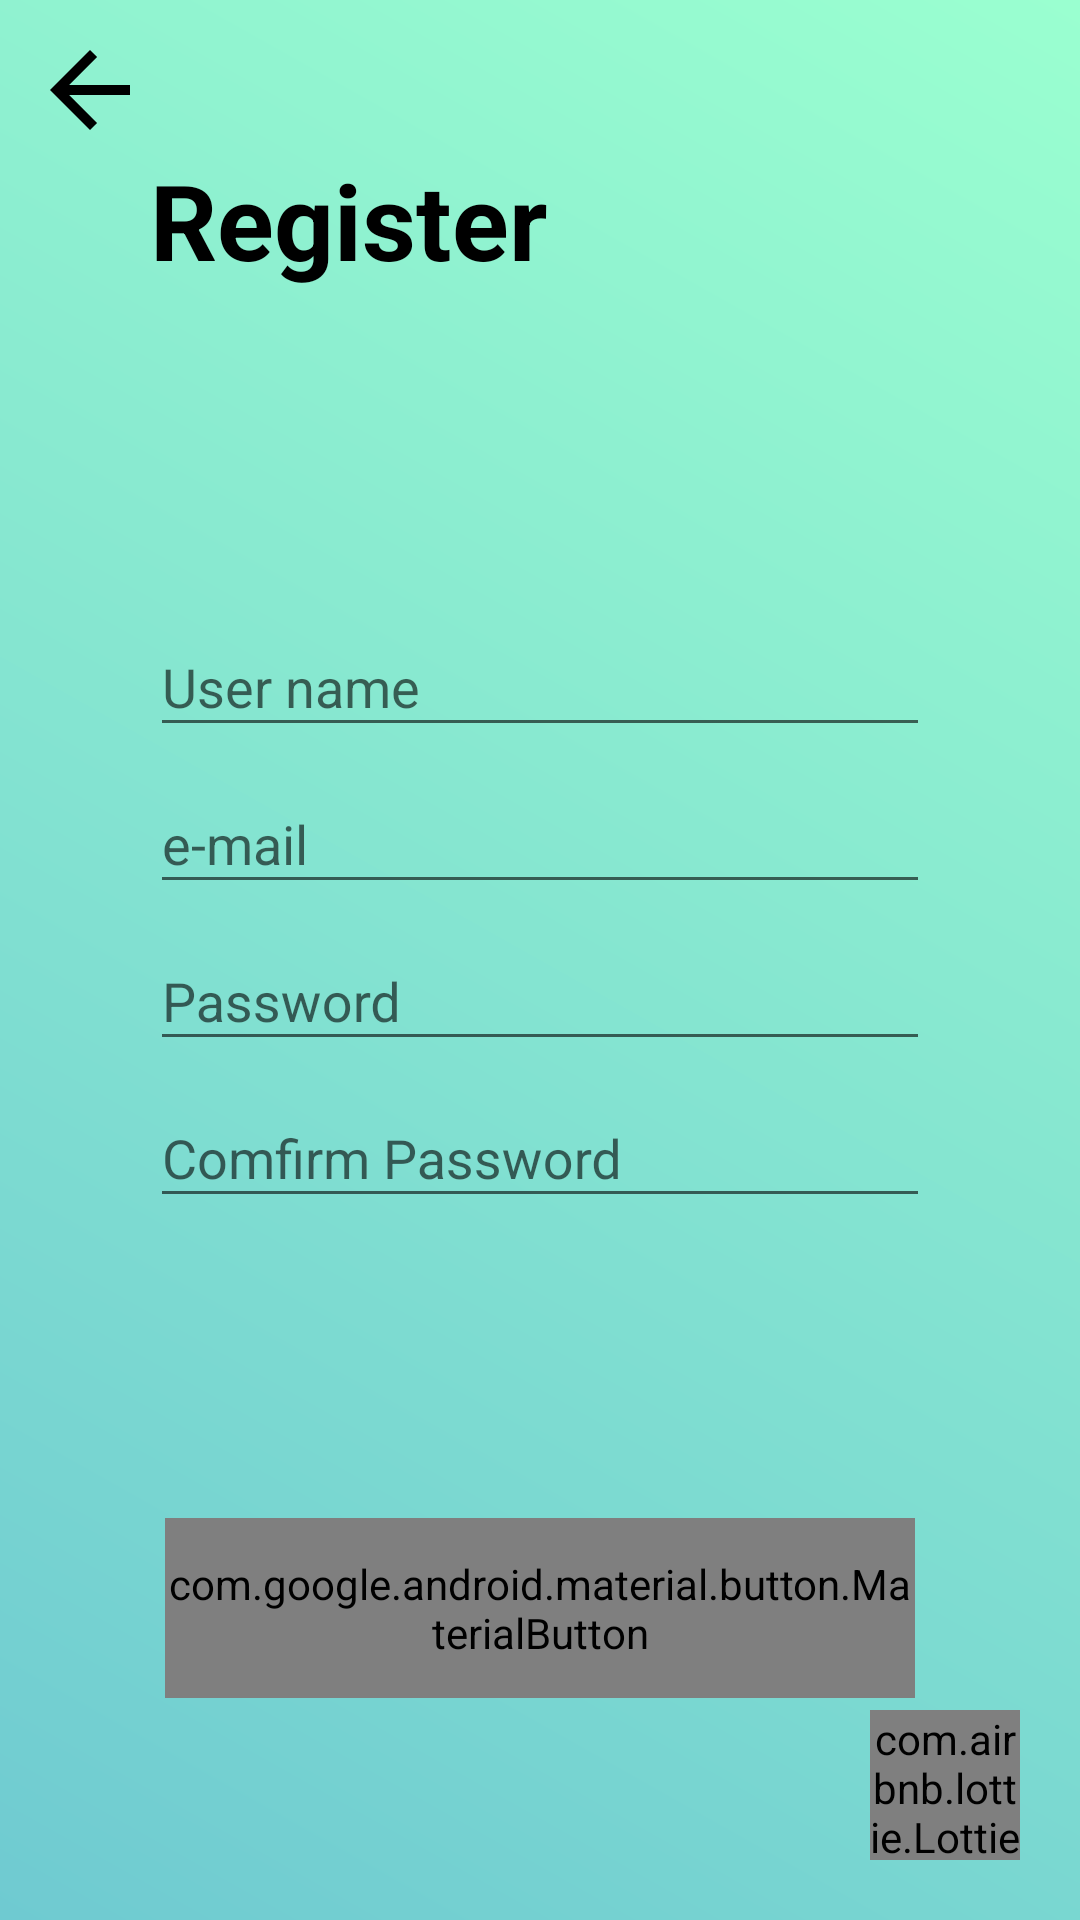

Named icons in this screenshot (1080x1920) and their bounding boxes, (x1, y1, x2, y2):
arrow back: (50, 50, 130, 130)
